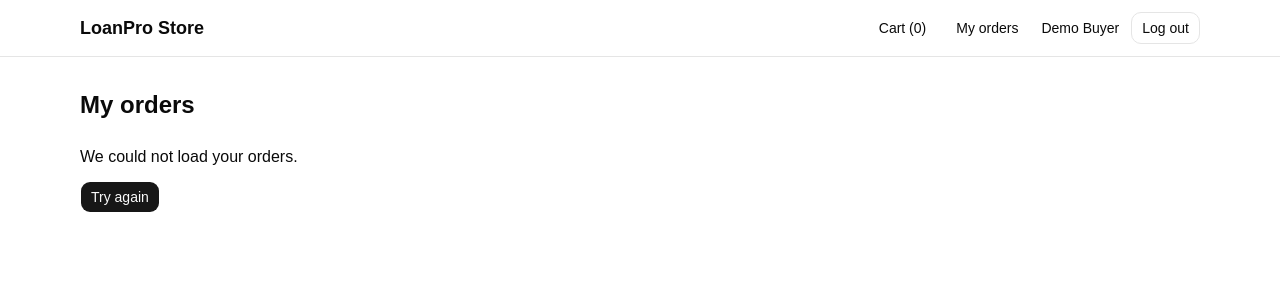
my orders › pages through orders and retries after a failure
Check: the text "We could not load your orders." is shown, box [80,145,298,169]
Click the button "Try again": [120, 197] box [80,181,160,213]
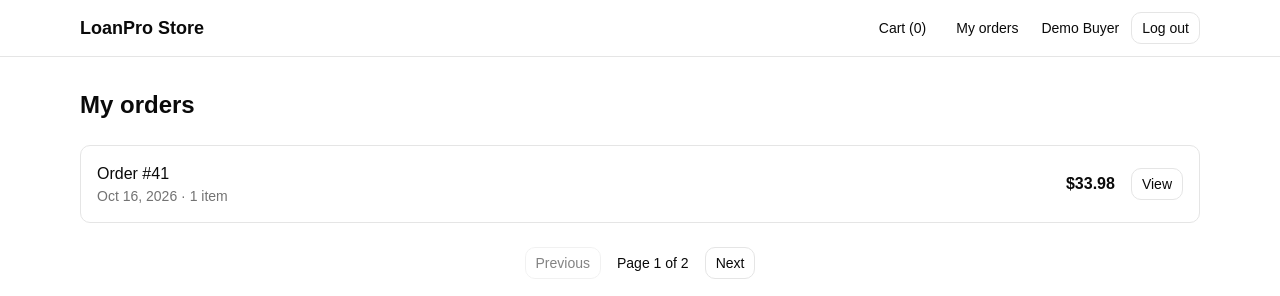
Check: the list item "Order #41" is shown, box [97,165,1183,204]
Click the button with aria-label "Next page": [730, 263] box [705,247,756,279]
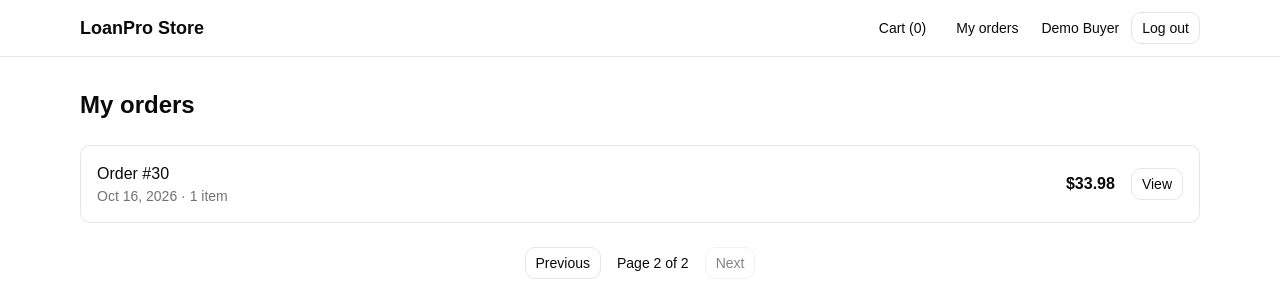
Check: the list item "Order #30" is shown, box [97,165,1183,204]
